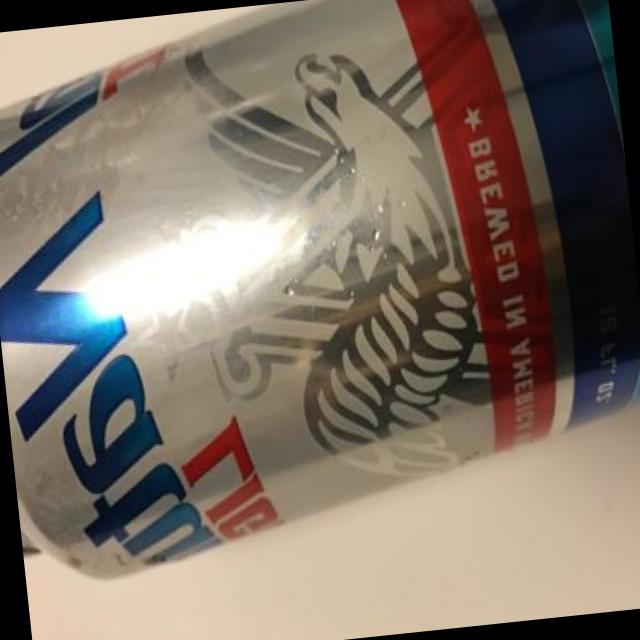kim_loai: (0, 0, 640, 580)
